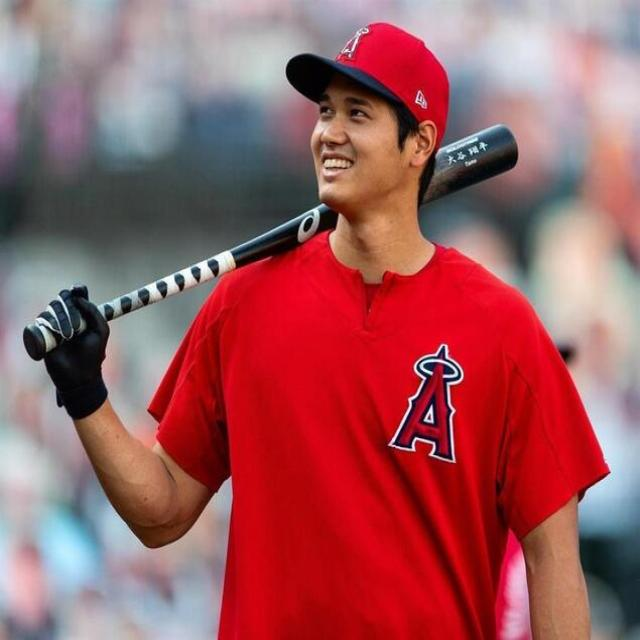Nonhelmet: (275, 14, 457, 220)
